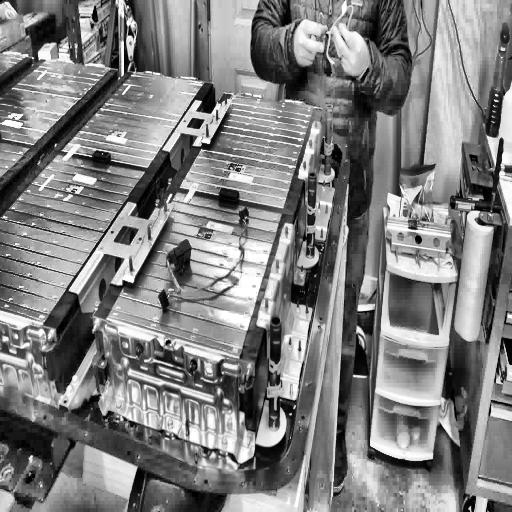battery_module: (107, 191, 282, 358), (0, 153, 144, 325), (179, 92, 314, 208), (61, 72, 203, 168), (0, 58, 109, 144)
high_volt_cable: (154, 206, 254, 317)
